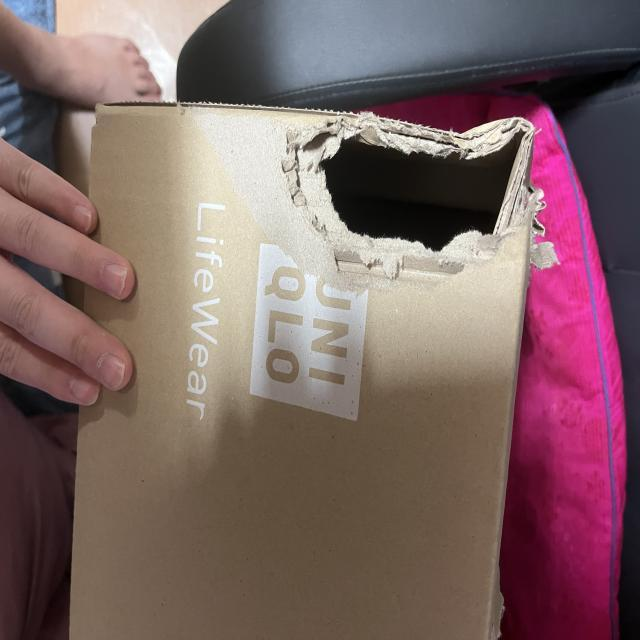hole: (292, 109, 540, 258)
